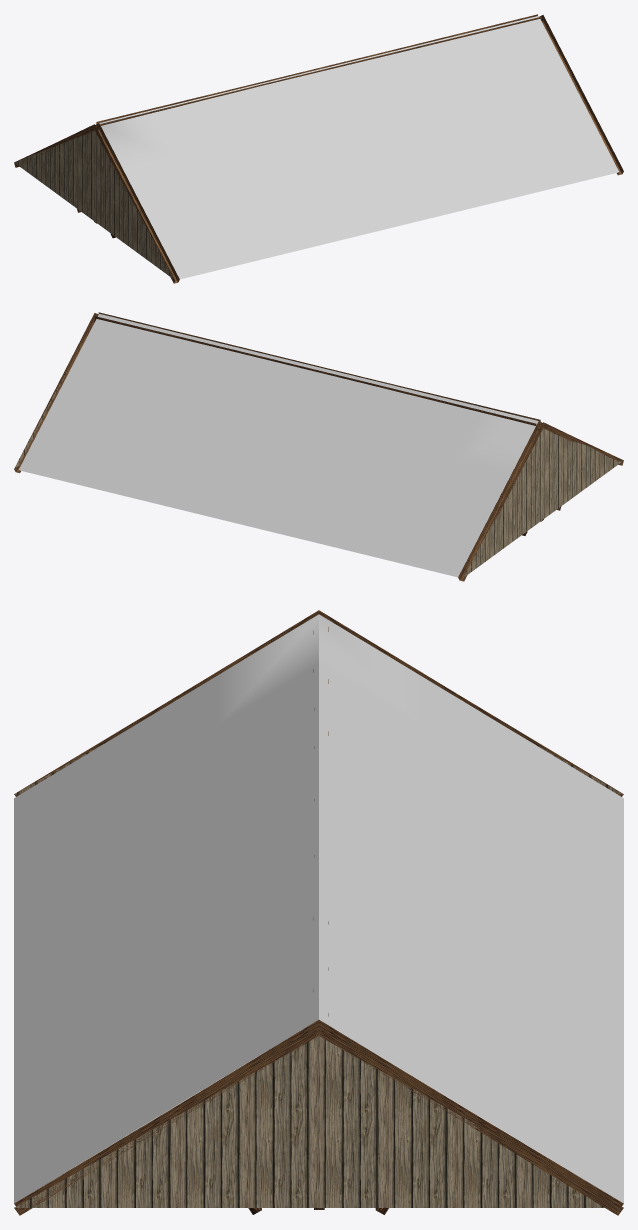
The model's file is LAKETOWN_WAREHOUSE2_PS_WH2_PLAT_ROOF847__GX.obj.
3 views of the same model, one above another, from view 1: azimuth 30°, elevation 25°; view 2: azimuth 150°, elevation 25°; view 3: azimuth 270°, elevation 25° (orthographic). The views are drawn at different scales.
Visible parts, largest first — view 1: lat_Roof847__GX; view 2: lat_Roof847__GX; view 3: lat_Roof847__GX.
Part boxes in pixels (x1=…): lat_Roof847__GX: x1=14, y1=14, x2=623, y2=283; lat_Roof847__GX: x1=14, y1=312, x2=623, y2=581; lat_Roof847__GX: x1=14, y1=610, x2=623, y2=1215.
Bounding box in the file's own units: 3614 × 783 × 2252.
